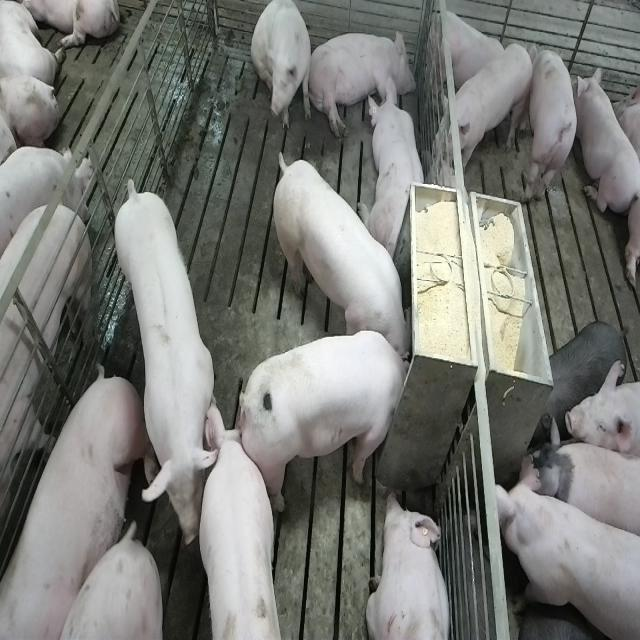Feeding: (244, 329, 420, 511), (268, 145, 411, 359)
Lateral_lying: (3, 365, 152, 640), (306, 27, 416, 139)
Sitting: (252, 1, 314, 137)
Standing: (0, 196, 94, 640), (114, 182, 222, 538), (497, 458, 640, 640), (192, 414, 280, 640), (524, 416, 637, 548), (437, 47, 536, 173), (538, 318, 628, 432), (524, 39, 580, 213)
Sternal_lying: (366, 490, 453, 640), (367, 79, 431, 258), (576, 62, 638, 216), (427, 5, 508, 97)
